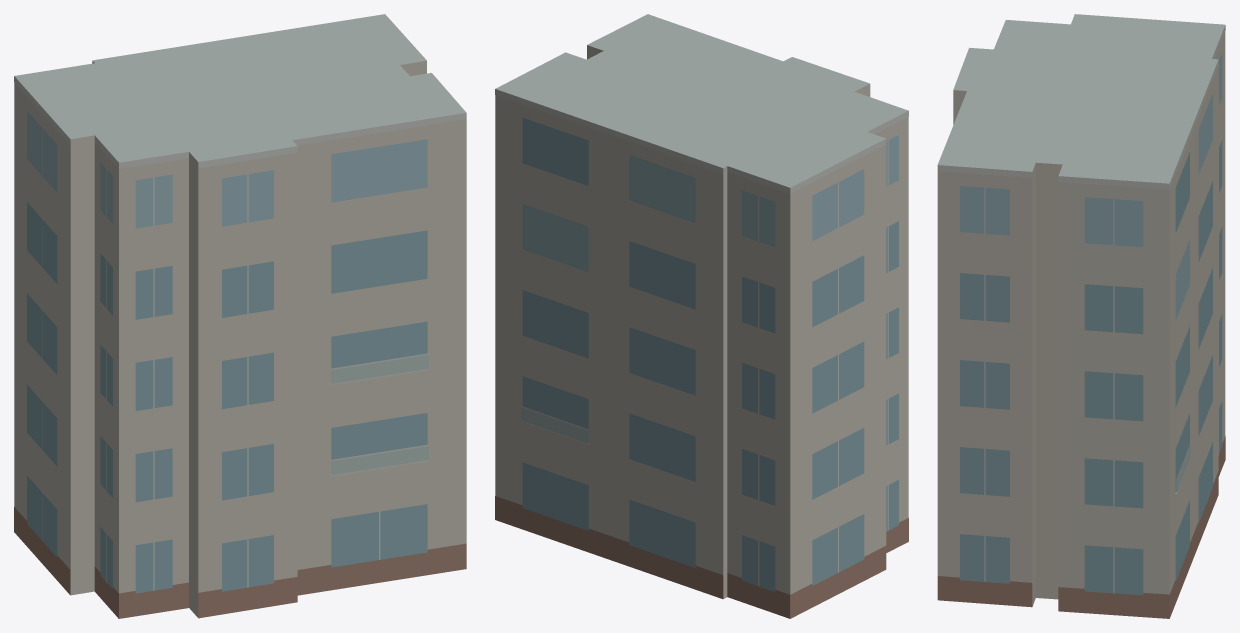
The model's file is survey-upis-33005507.glb.
3 views of the same model, side by side, from view 1: azimuth 30°, elevation 25°; view 2: azimuth 150°, elevation 25°; view 3: azimuth 270°, elevation 25° (orthographic). The views are drawn at different scales.
Visible parts, largest first — view 1: survey-upis-33005507.tmp; view 2: survey-upis-33005507.tmp; view 3: survey-upis-33005507.tmp.
Part boxes in pixels (x1=…): survey-upis-33005507.tmp: x1=14, y1=14, x2=466, y2=618; survey-upis-33005507.tmp: x1=495, y1=14, x2=908, y2=618; survey-upis-33005507.tmp: x1=937, y1=14, x2=1225, y2=618.
Size of the model in its own units: 14.66 by 17.53 by 10.52.
